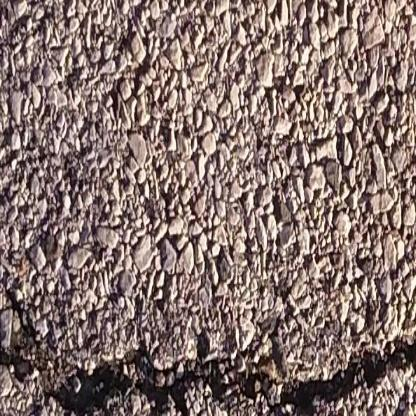Cracks: (43, 326, 416, 416), (0, 254, 47, 350), (0, 351, 51, 381)
